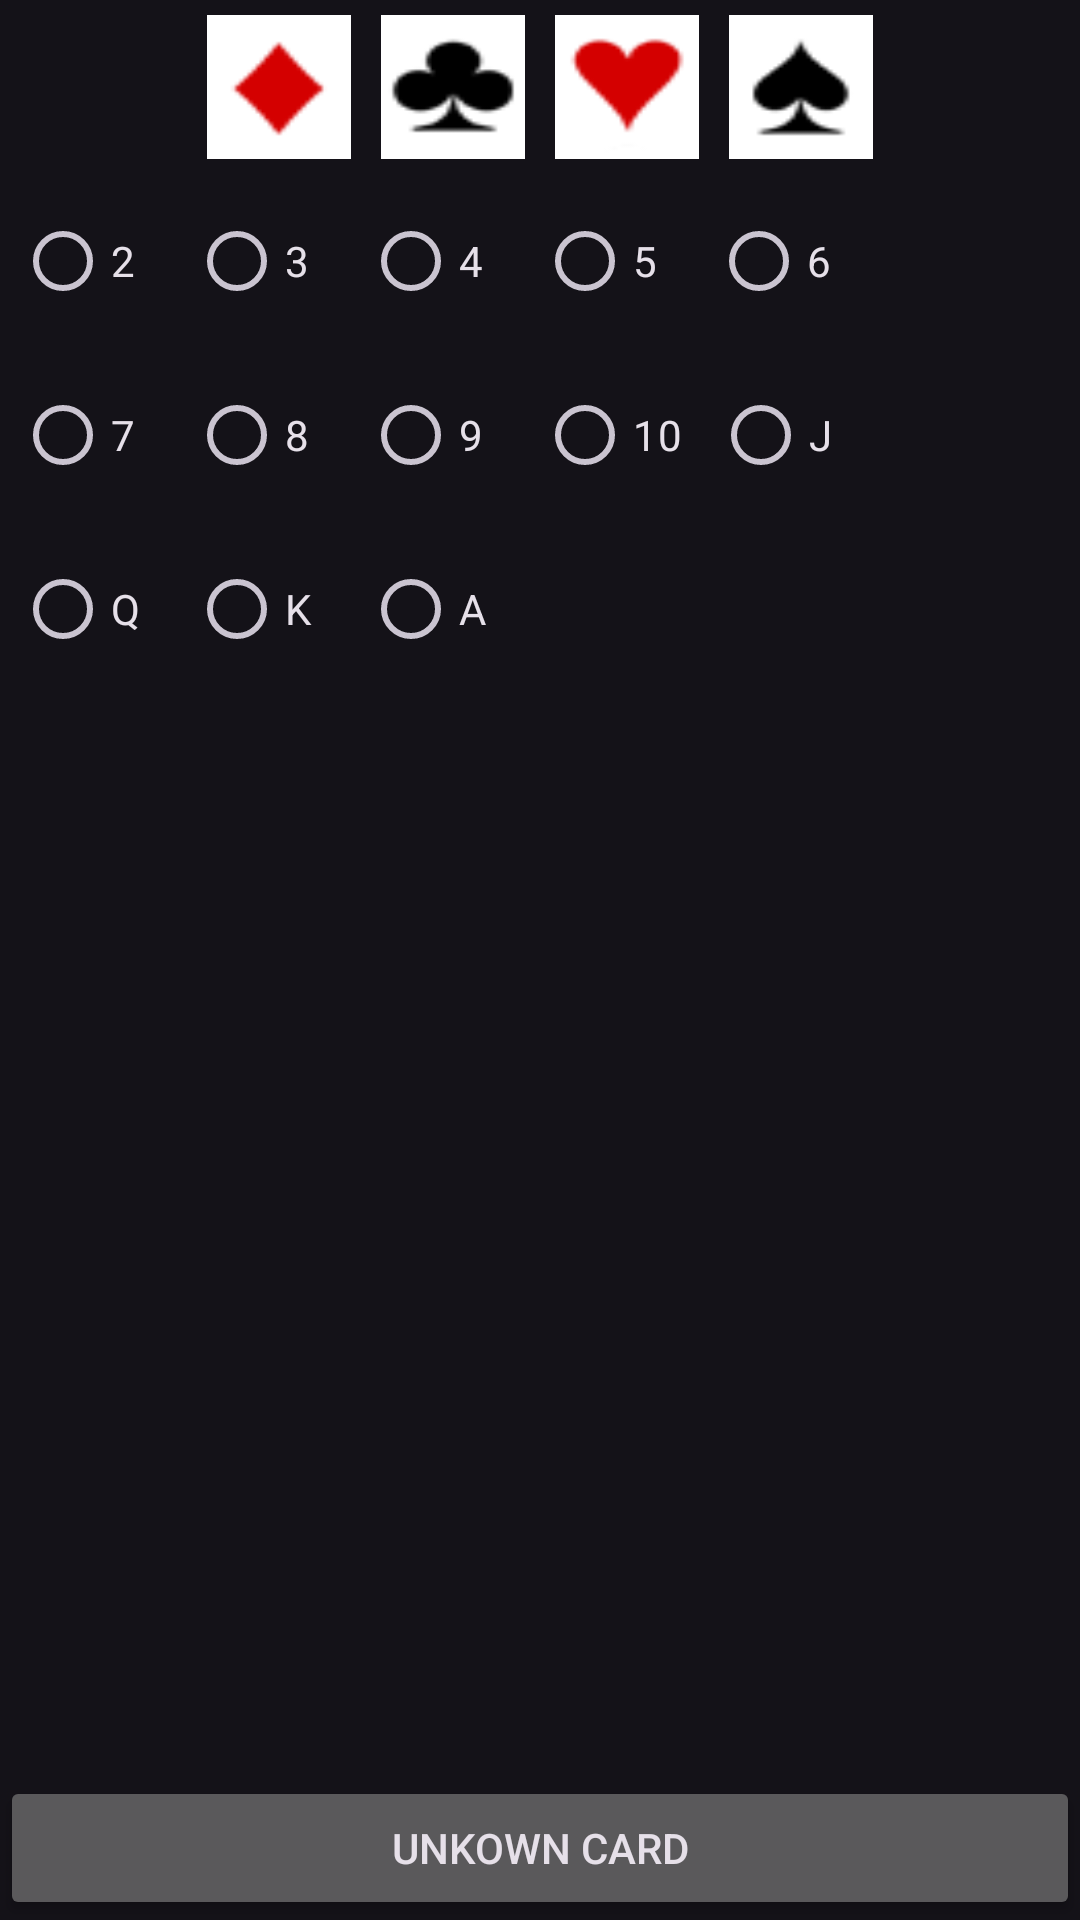

Point at icon controls on the screen. Image size 1080*1920, points as point (x, y).
club radio: point (453, 87)
diamond radio: point (279, 87)
heart radio: point (627, 87)
spade radio: point (801, 87)
